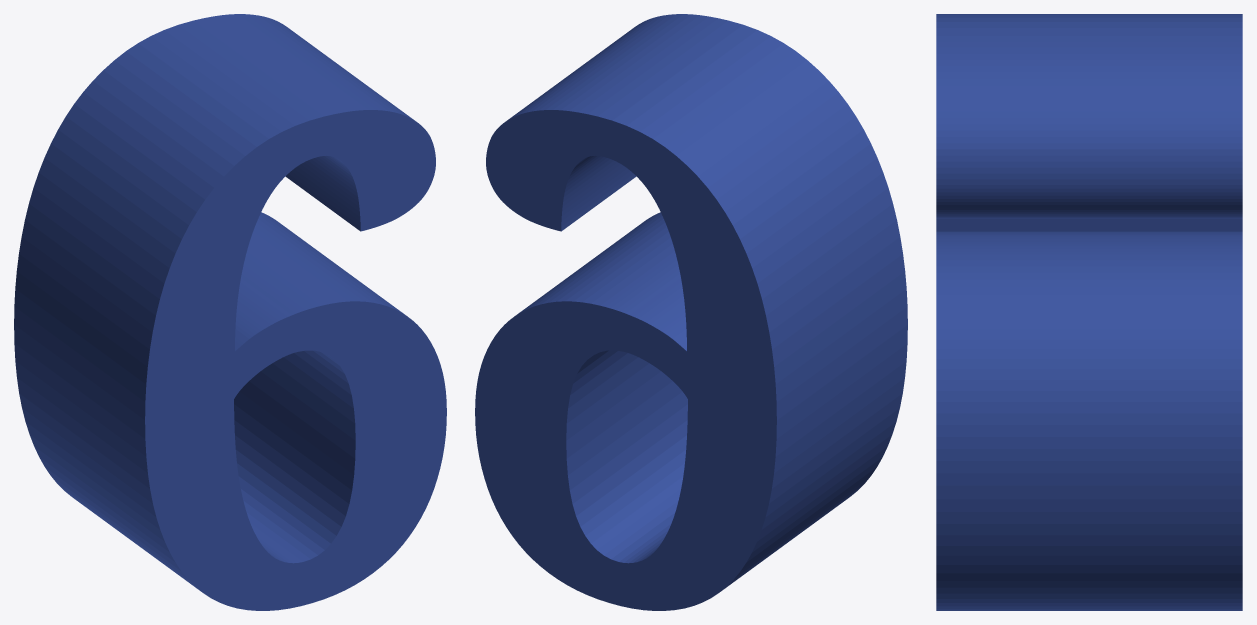
File: tinker.obj
3 renders of one model, left to right at view 1: azimuth 30°, elevation 25°; view 2: azimuth 150°, elevation 25°; view 3: azimuth 270°, elevation 25°, orthographic. The views are drawn at different scales.
Parts seen in each view (by area): view 1: obj_0; view 2: obj_0; view 3: obj_0.
Boxes of the visible parts, left/top/right/bottom form: obj_0: left=14, top=14, right=446, bottom=610; obj_0: left=475, top=14, right=907, bottom=610; obj_0: left=936, top=14, right=1242, bottom=610.
Size of the model in its own units: 74.4 by 114 by 55.94.
